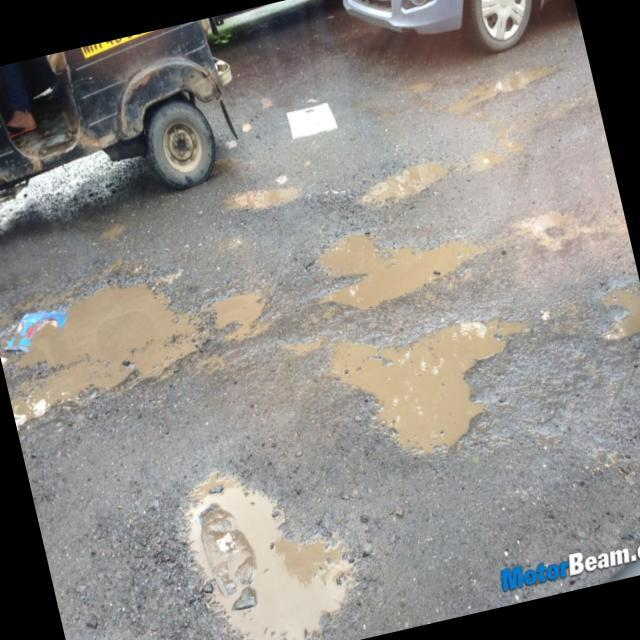Pothole: (164, 449, 384, 640), (327, 296, 543, 470), (0, 263, 207, 424), (298, 201, 493, 325), (430, 60, 562, 118), (354, 146, 459, 218), (201, 271, 288, 348), (512, 195, 612, 260), (582, 272, 640, 367), (220, 170, 306, 220), (470, 130, 518, 177), (404, 69, 444, 101)
